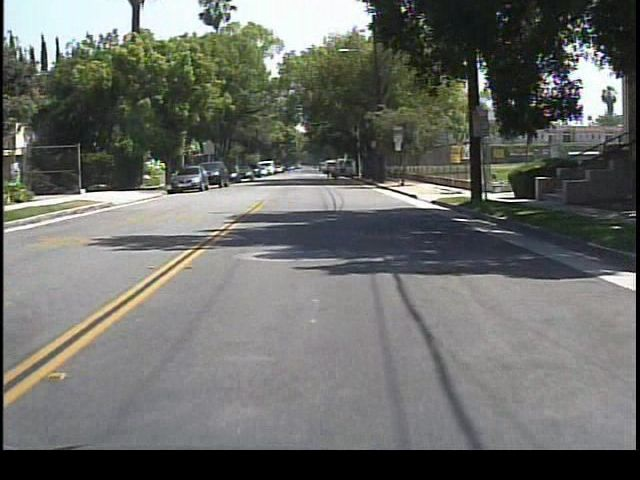person: (320, 159, 336, 184)
